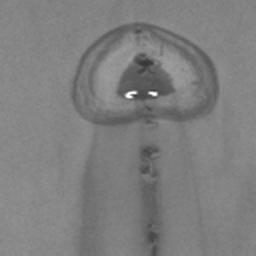Slag inclusion: (68, 22, 220, 125), (138, 143, 163, 256)
